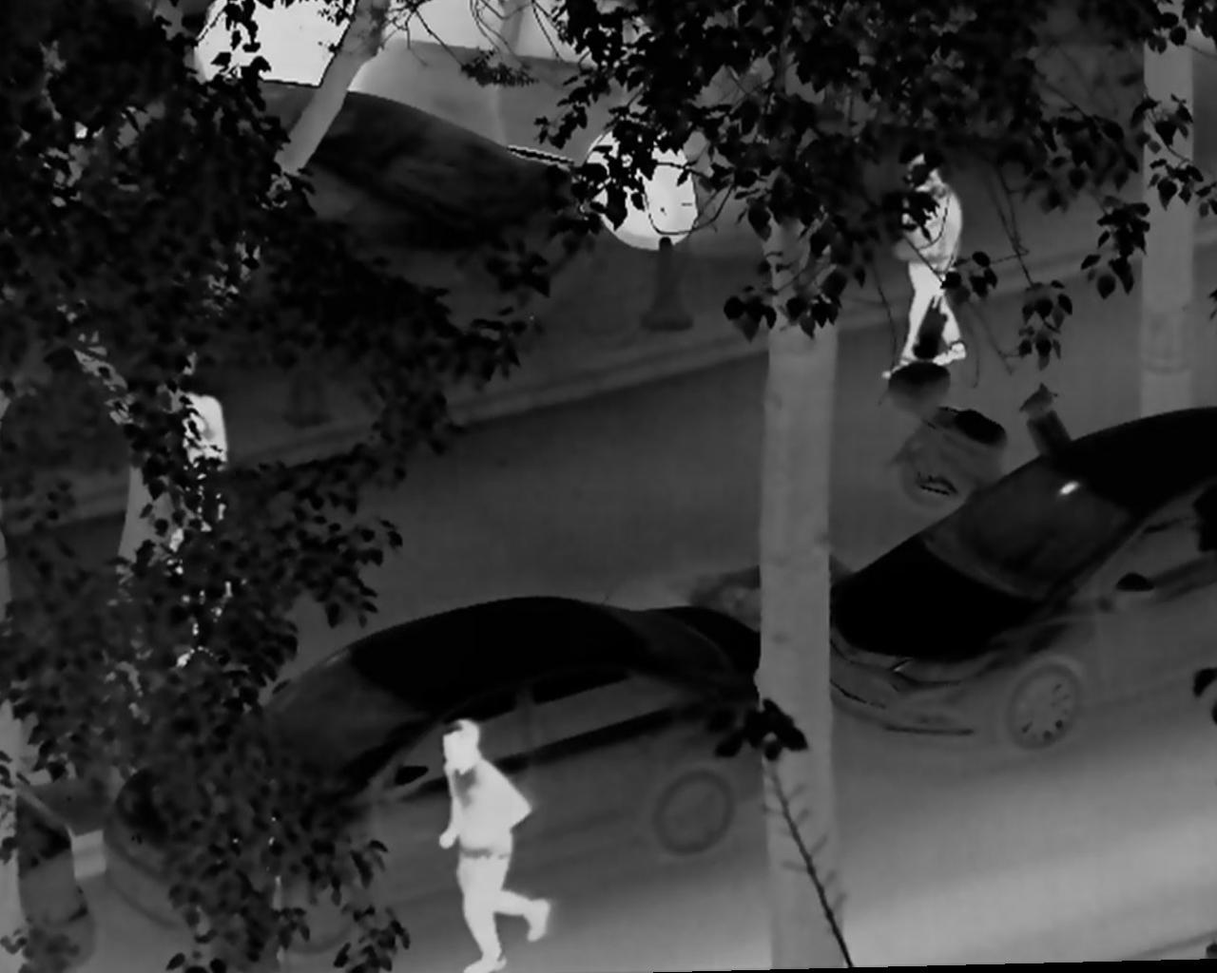person: (433, 716, 551, 973), (879, 157, 973, 379), (168, 386, 238, 611), (145, 512, 204, 682)
